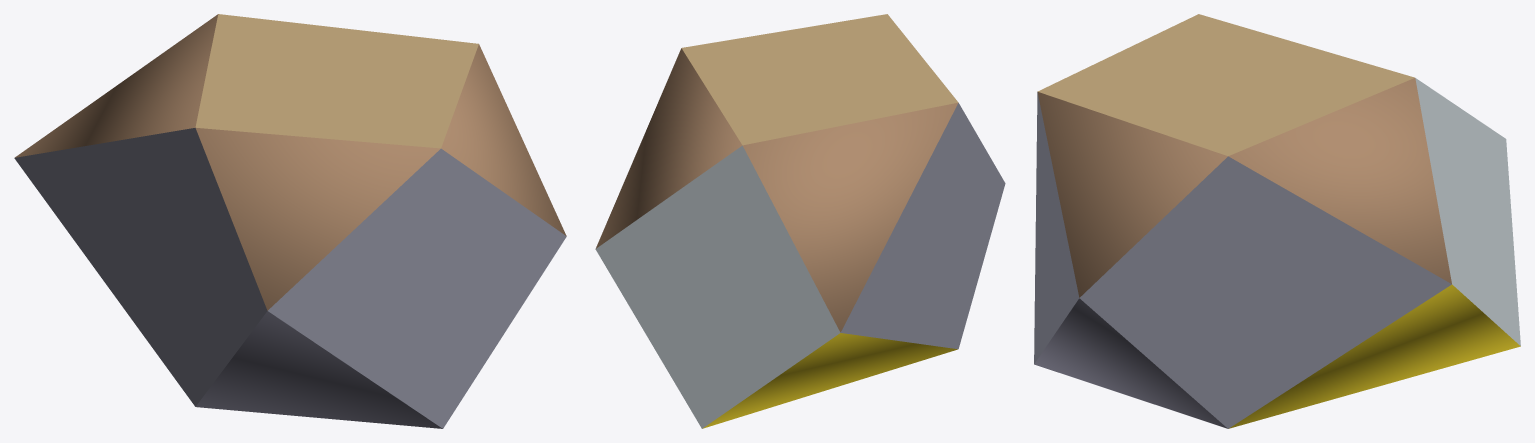
Rendered from rock2.glb.
The picture shows the model from 3 angles, left to right: view 1: azimuth 30°, elevation 25°; view 2: azimuth 150°, elevation 25°; view 3: azimuth 270°, elevation 25°; orthographic projection. The views are drawn at different scales.
Visible parts, largest first — view 1: Rock2.001; view 2: Rock2.001; view 3: Rock2.001.
Part boxes in pixels (x1,y1,x2,y2): Rock2.001: (14, 14, 566, 428); Rock2.001: (595, 14, 1005, 428); Rock2.001: (1034, 14, 1520, 428).
Bounding box in the file's own units: 0.4504 × 0.3599 × 0.5823.
